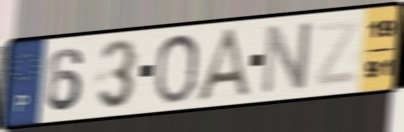3: (90, 37, 143, 112)
6: (46, 46, 85, 113)
A: (193, 25, 257, 102)
N: (258, 18, 315, 98)
O: (152, 31, 202, 106)
Z: (312, 16, 363, 90)
